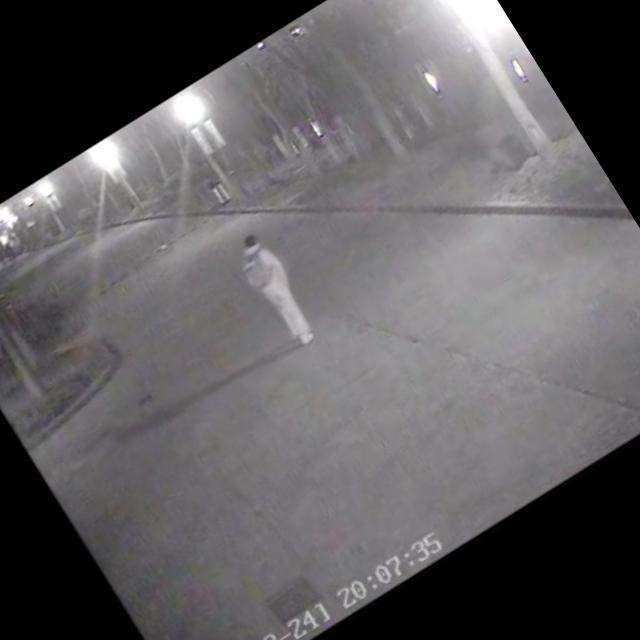person: (207, 210, 337, 366)
